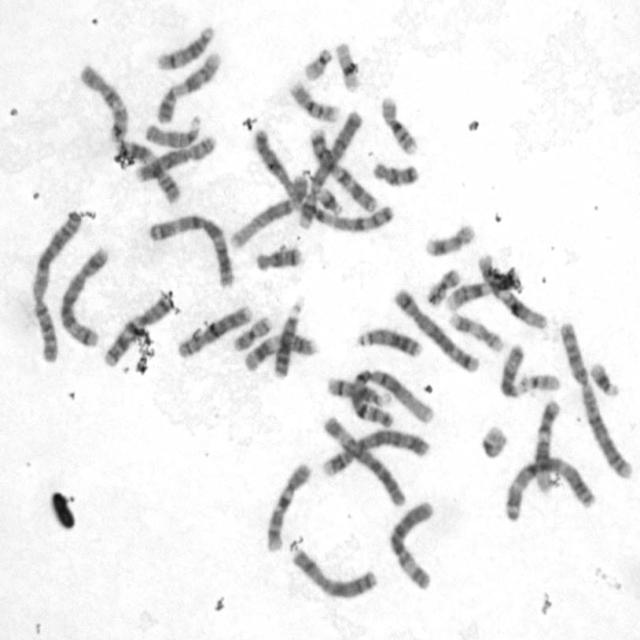A1: (228, 196, 402, 254), (345, 365, 436, 429)
A2: (556, 316, 634, 480), (28, 208, 84, 365)
A3: (144, 210, 236, 288), (500, 453, 598, 523)
B4: (293, 106, 364, 231), (320, 427, 432, 478)
B5: (391, 284, 480, 373), (55, 243, 110, 349)
C10: (263, 458, 313, 553), (77, 61, 131, 142)
C11: (116, 138, 179, 210), (240, 329, 319, 374)
C12: (474, 250, 549, 332), (532, 398, 562, 493)
C6: (319, 412, 407, 509), (385, 497, 437, 591)
C7: (307, 123, 379, 214), (100, 290, 176, 370)
C8: (131, 133, 218, 184), (175, 305, 253, 360)
C9: (154, 48, 222, 125), (442, 262, 520, 312)
D13: (271, 294, 305, 380), (353, 323, 424, 360)
D14: (152, 22, 215, 72), (324, 374, 392, 410)
D15: (142, 112, 202, 149), (496, 346, 534, 399)
E16: (378, 92, 419, 157), (286, 78, 341, 124)
E17: (445, 309, 505, 354), (422, 220, 476, 258)
E18: (370, 157, 420, 190), (252, 244, 305, 274)
F19: (332, 38, 362, 96), (478, 422, 510, 457)
F20: (423, 264, 462, 308), (232, 312, 274, 352)
G21: (587, 358, 621, 398), (315, 183, 345, 217)
G22: (300, 44, 334, 82), (516, 369, 562, 393)
X: (288, 547, 379, 601), (251, 124, 308, 204)
